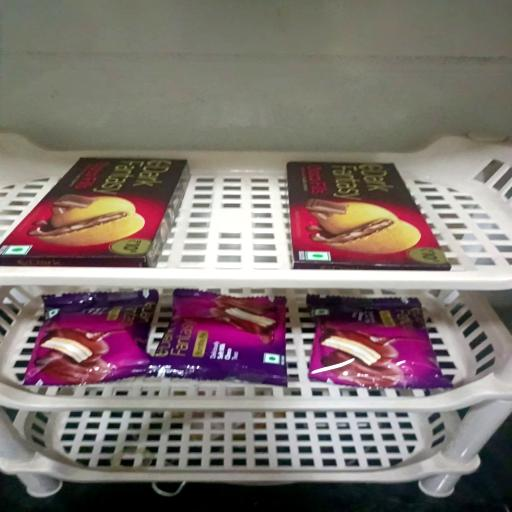Choco Fills: (0, 154, 188, 266), (289, 163, 447, 272)
Choco Pie: (308, 294, 450, 389), (22, 289, 158, 387), (153, 288, 287, 386)
